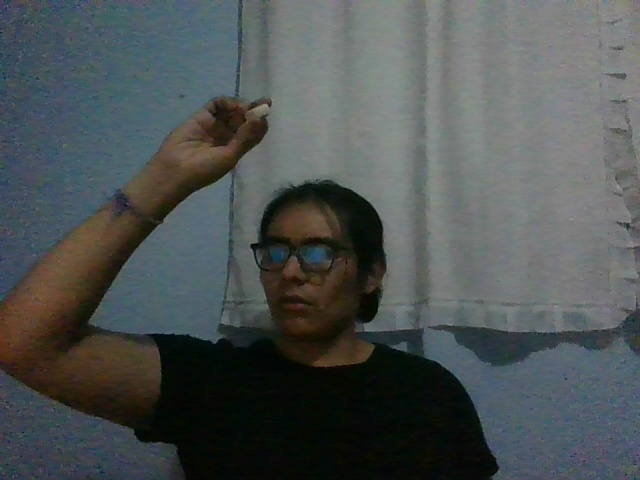goma: (244, 104, 270, 121)
